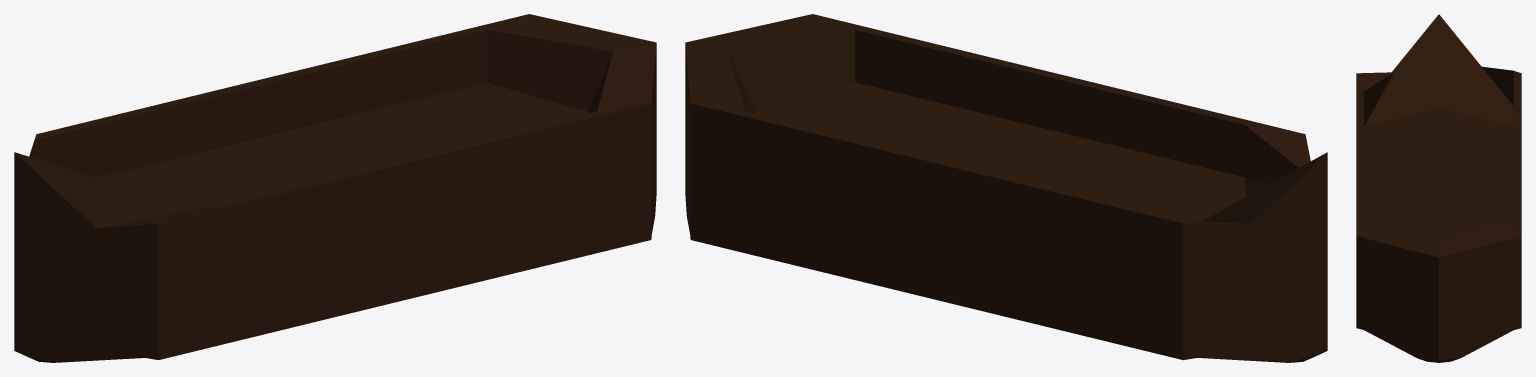
The model's file is proto Boat.fbx.
The picture shows the model from 3 angles, left to right: view 1: azimuth 30°, elevation 25°; view 2: azimuth 150°, elevation 25°; view 3: azimuth 270°, elevation 25°; orthographic projection. The views are drawn at different scales.
Parts seen in each view (by area): view 1: Cube; view 2: Cube; view 3: Cube.
Boxes of the visible parts, box(x1,y1,x2,y2) form: Cube: box(14, 14, 656, 362); Cube: box(685, 14, 1327, 362); Cube: box(1356, 14, 1521, 362).
Size of the model in its own units: 1599 by 495 by 527.
